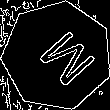M_SW: (22, 22, 92, 90)
